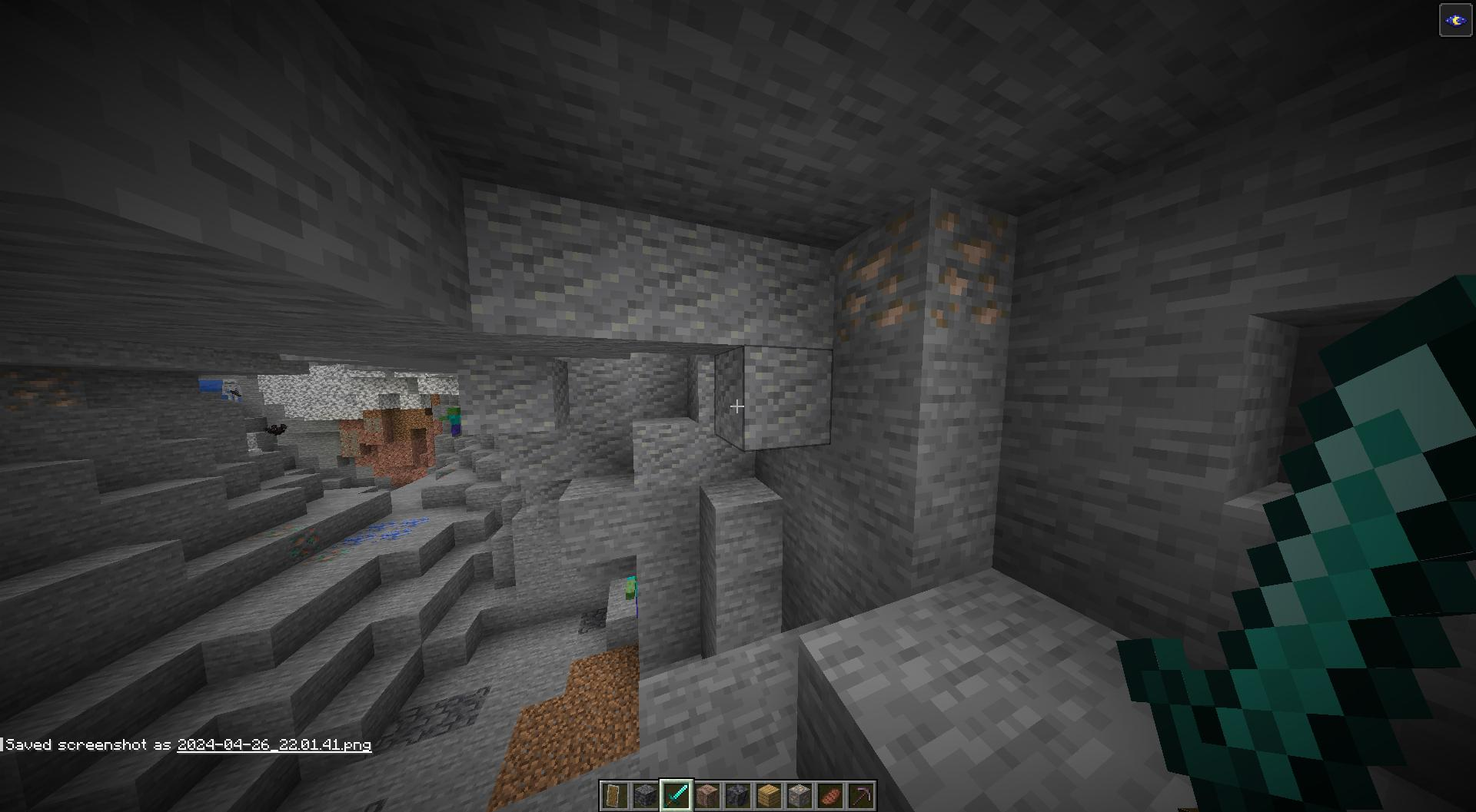iron ore: (921, 202, 1016, 327), (826, 224, 926, 330), (5, 365, 82, 414)
